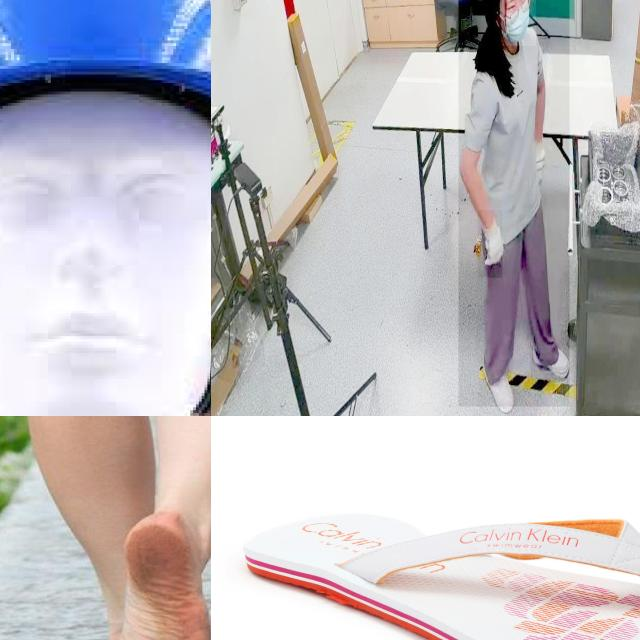Sandals: (241, 510, 640, 640), (109, 497, 211, 640)
face_mask: (494, 0, 536, 45)
glasses: (506, 0, 532, 24)
hand_glove: (478, 210, 503, 279)
head_helmet: (0, 0, 211, 151)
person: (458, 0, 569, 407)
shoes: (480, 345, 516, 413), (529, 338, 570, 382)
